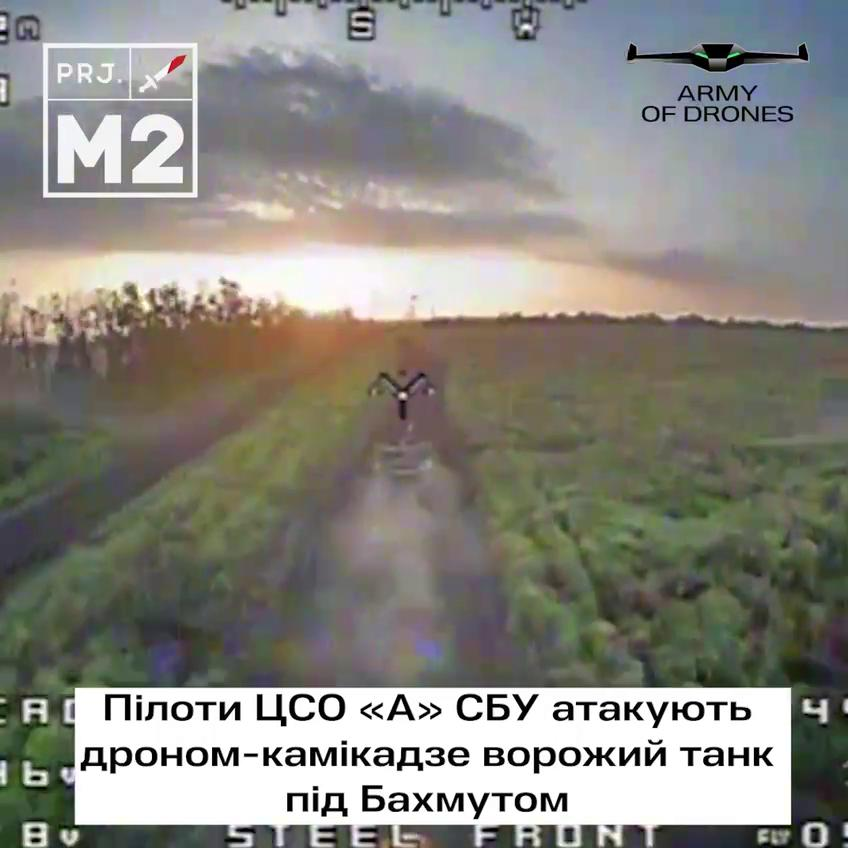tank: (359, 420, 448, 527)
